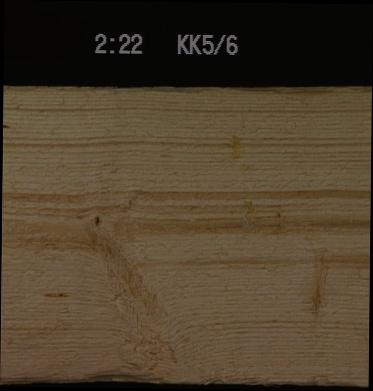wave: (36, 365, 342, 387)
